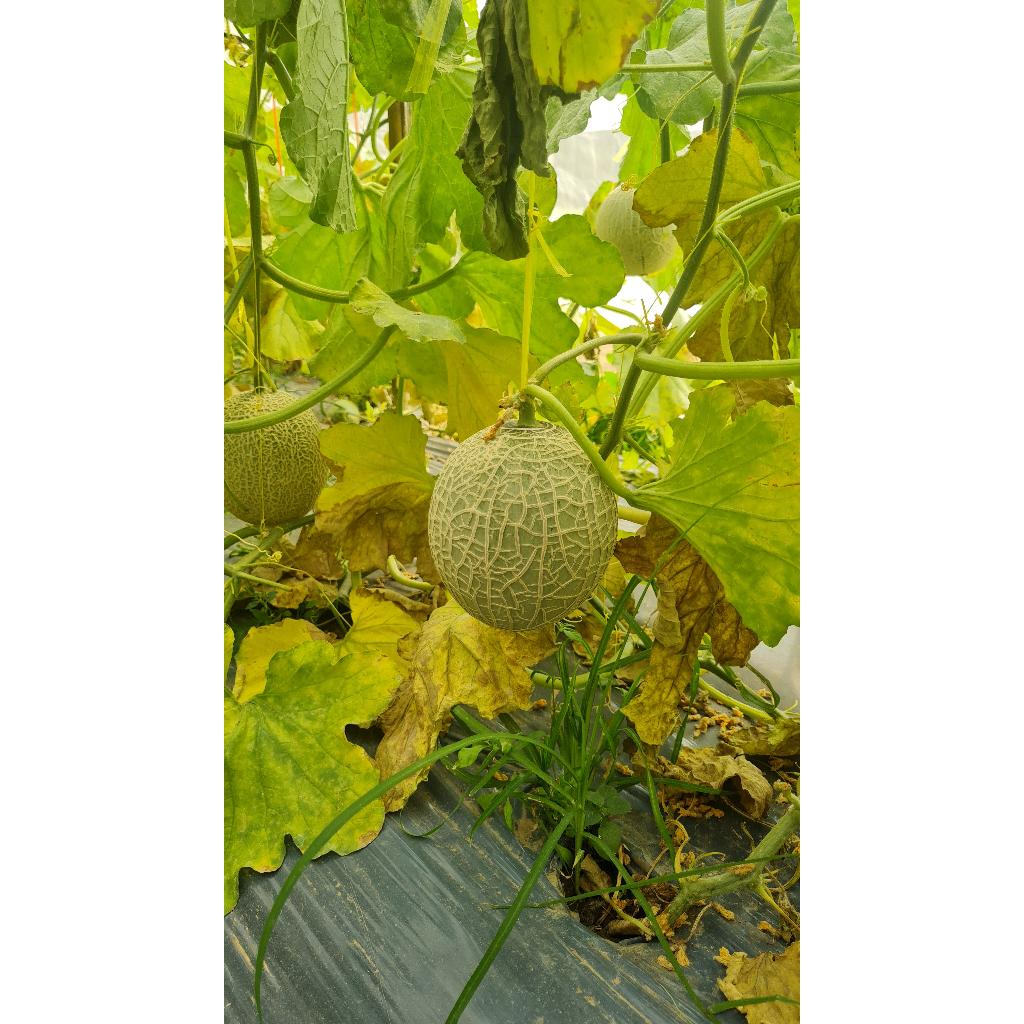melon: (428, 422, 618, 632), (224, 410, 328, 526), (224, 390, 294, 422)
